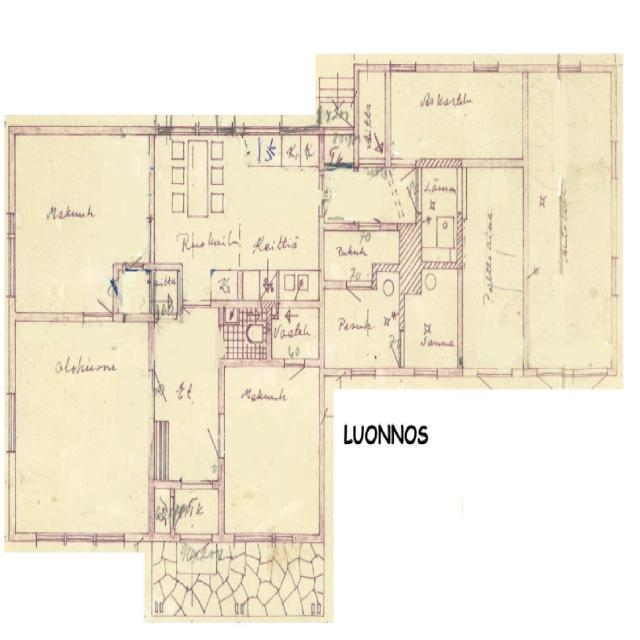door: (572, 369, 608, 432), (537, 369, 572, 432), (478, 370, 512, 430), (180, 534, 212, 590), (181, 433, 212, 488), (149, 370, 185, 417), (190, 414, 225, 458), (84, 270, 112, 322), (319, 176, 352, 217), (325, 84, 352, 134), (122, 218, 154, 260), (389, 169, 421, 211), (185, 300, 210, 346), (346, 281, 371, 327), (360, 160, 384, 206), (391, 160, 415, 205), (377, 332, 405, 366), (358, 190, 380, 231), (170, 497, 195, 528), (198, 326, 223, 357), (285, 358, 304, 397), (156, 314, 176, 351)
